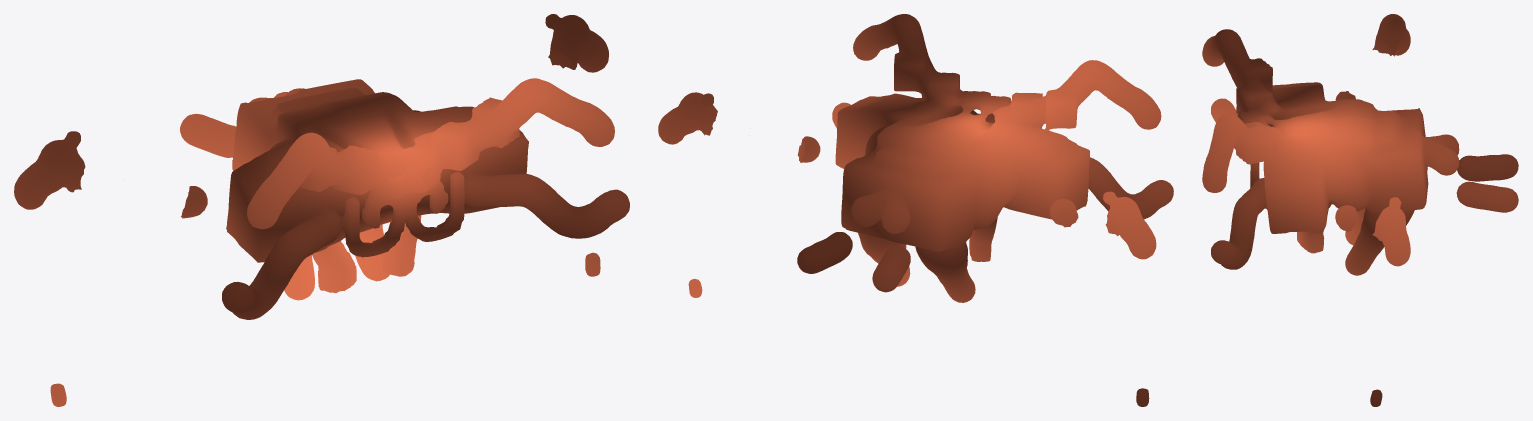
3 views of the same model, side by side, from view 1: azimuth 30°, elevation 25°; view 2: azimuth 150°, elevation 25°; view 3: azimuth 270°, elevation 25° (orthographic). The views are drawn at different scales.
Parts seen in each view (by area): view 1: GDExample; view 2: GDExample; view 3: GDExample.
Boxes of the visible parts, x1=… form: GDExample: x1=14, y1=14, x2=629, y2=406; GDExample: x1=658, y1=14, x2=1173, y2=406; GDExample: x1=1202, y1=14, x2=1518, y2=406.
Size of the model in its own units: 11.69 by 5.74 by 7.05.
